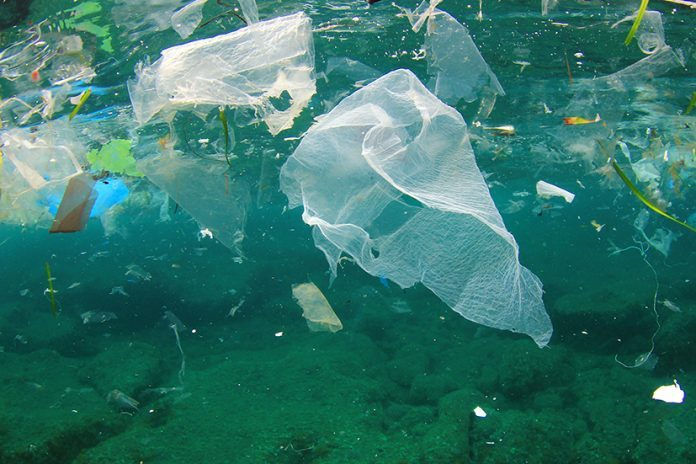litter: (264, 61, 591, 349), (534, 54, 696, 255), (111, 24, 324, 133), (123, 139, 259, 260), (1, 102, 114, 235), (1, 4, 116, 109), (397, 7, 515, 108), (29, 167, 107, 244), (281, 279, 345, 340), (610, 4, 669, 62), (651, 376, 686, 408)
